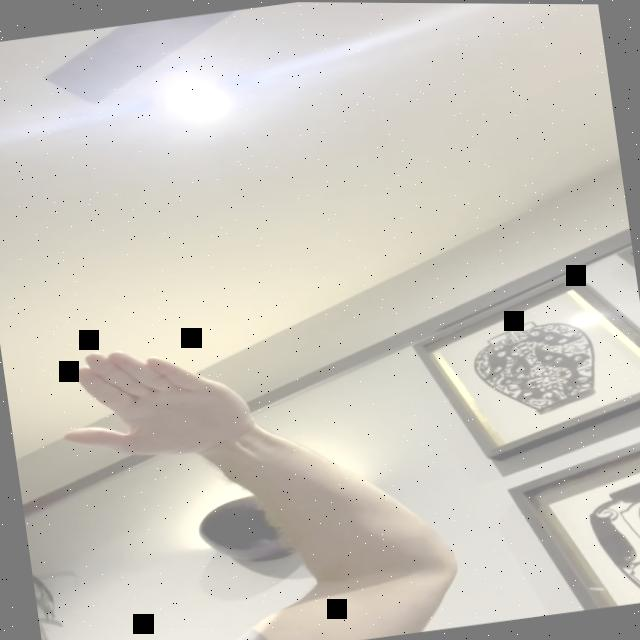Paper: (49, 328, 265, 471)
